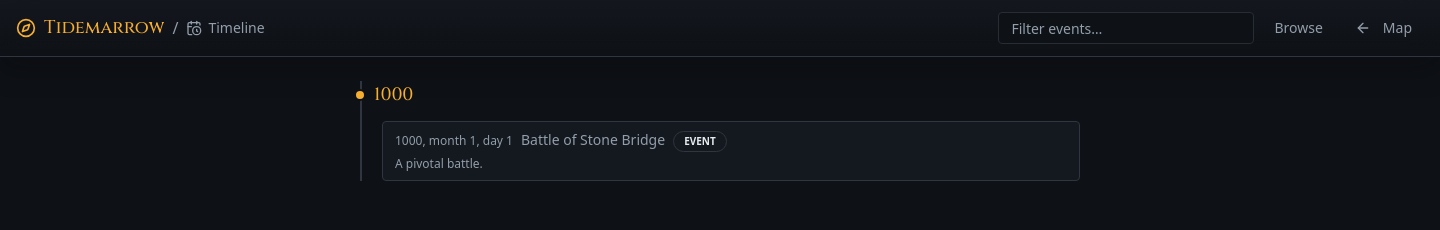
Test: AtlasTimeline — empty state › clear-filter button resets query and restores entries
Type "xyzzy-no-match" into the field with placeholder "Filter events…" at (1126, 28), box [998,12,1254,44]
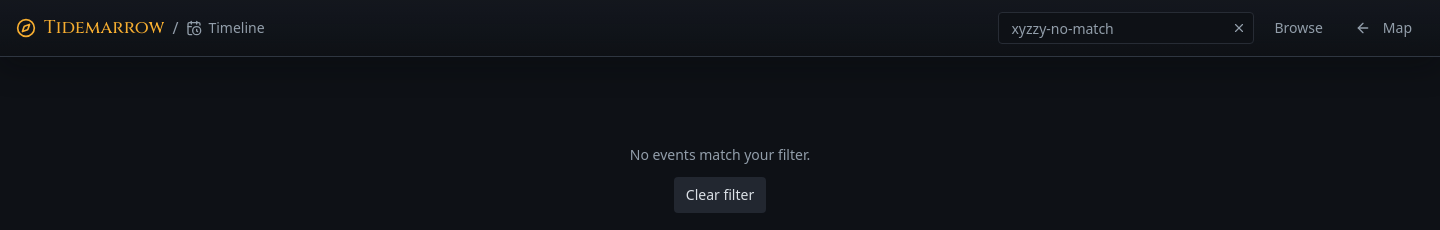
Expected: the text "No events match your filter." is shown, [630,145,810,164]
Click the button "Clear filter" at (720, 195), box [674,177,766,213]
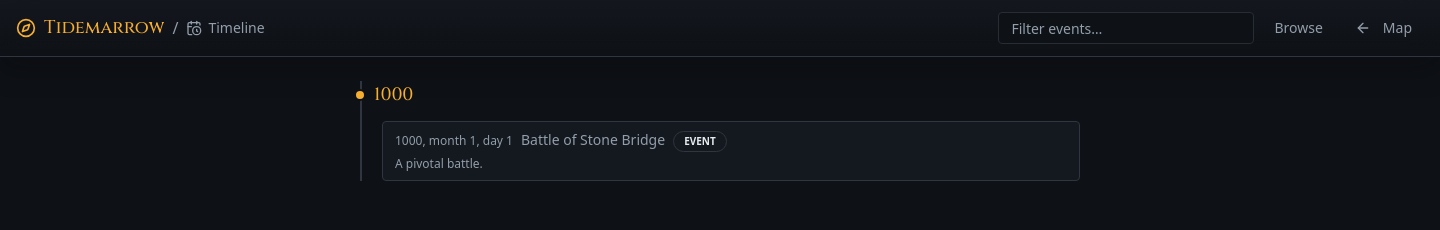
Expected: the text "Battle of Stone Bridge" is shown, [521,130,665,150]
Expected: the text "No events match your filter" is gone
